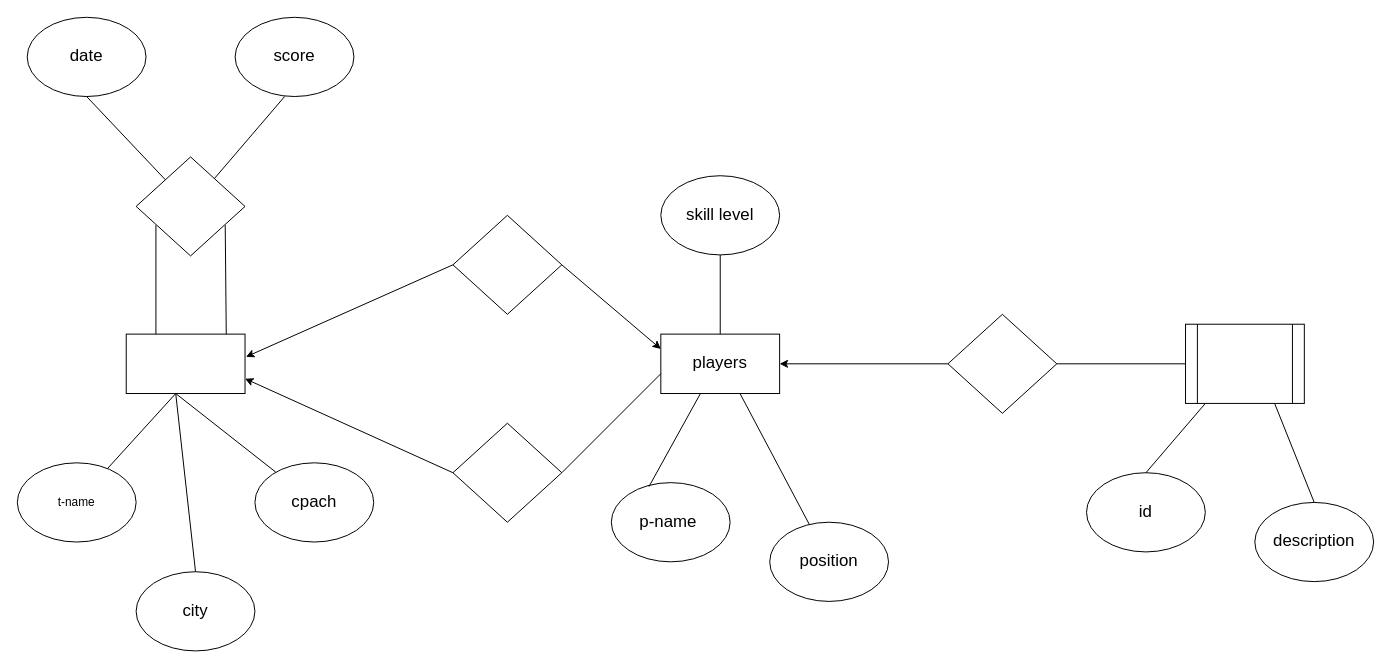
The diagram is 1391 pixels wide and 668 high, and some of its shapes have lost their labels. Each missing label, with the centre of its shape:
belongs to: the point at 507,472
caption: the point at 507,264
game: the point at 190,206
injury record: the point at 1244,363
log: the point at 1002,363
team: the point at 185,363
